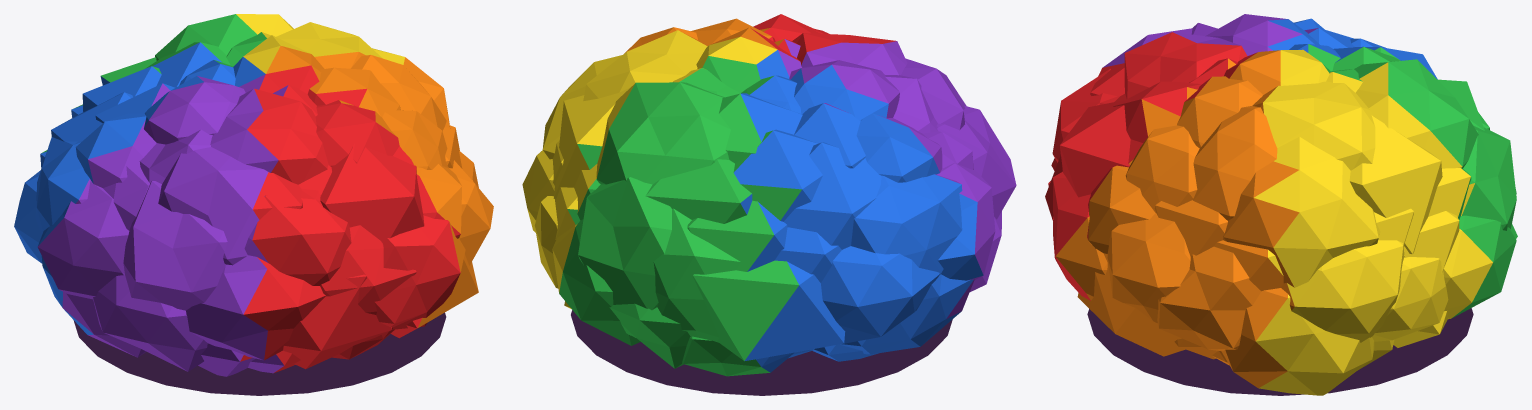
File: clown_wig.fbx
3 views of the same model, side by side, from view 1: azimuth 30°, elevation 25°; view 2: azimuth 150°, elevation 25°; view 3: azimuth 270°, elevation 25° (orthographic). The views are drawn at different scales.
Visible parts, largest first — view 1: clown_wig; view 2: clown_wig; view 3: clown_wig.
Boxes of the visible parts, <box> form: clown_wig: <box>14,14,493,395</box>; clown_wig: <box>522,14,1016,395</box>; clown_wig: <box>1045,14,1517,395</box>.
Size of the model in its own units: 0.385 by 0.2341 by 0.3649.
